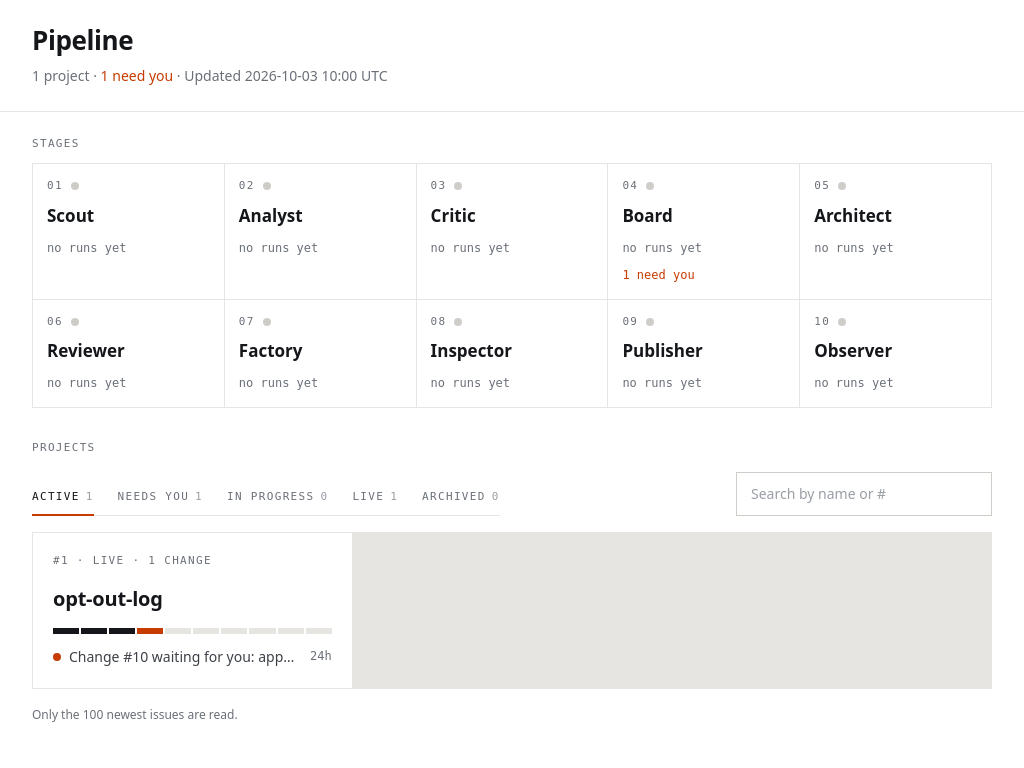
Test: Board › opens the Board stage to show what needs you there, linking to each
Click the button "04 Board no runs yet 1 need you".
click(704, 232)  # box [608,164,799,299]
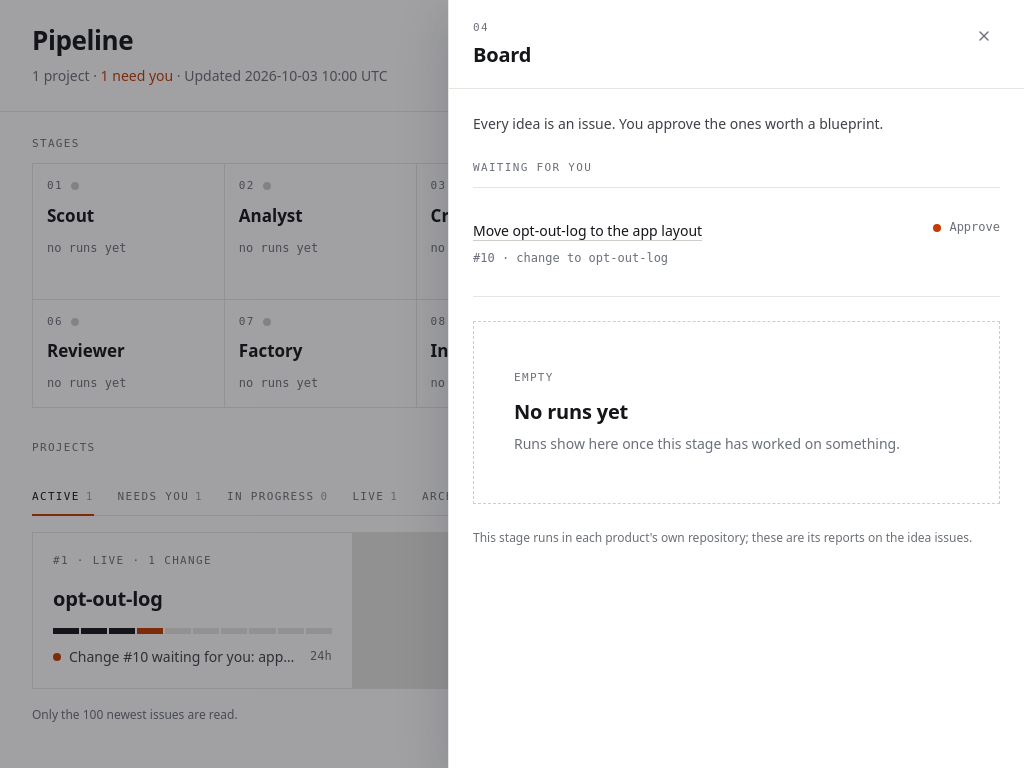
Check: the heading "Waiting for you" is shown, box [473,161,592,174]
Check: the text "#10 · change to opt-out-log" is shown, box [473,251,668,265]
Check: the picture named "Approve" is shown, box [933,224,941,232]
